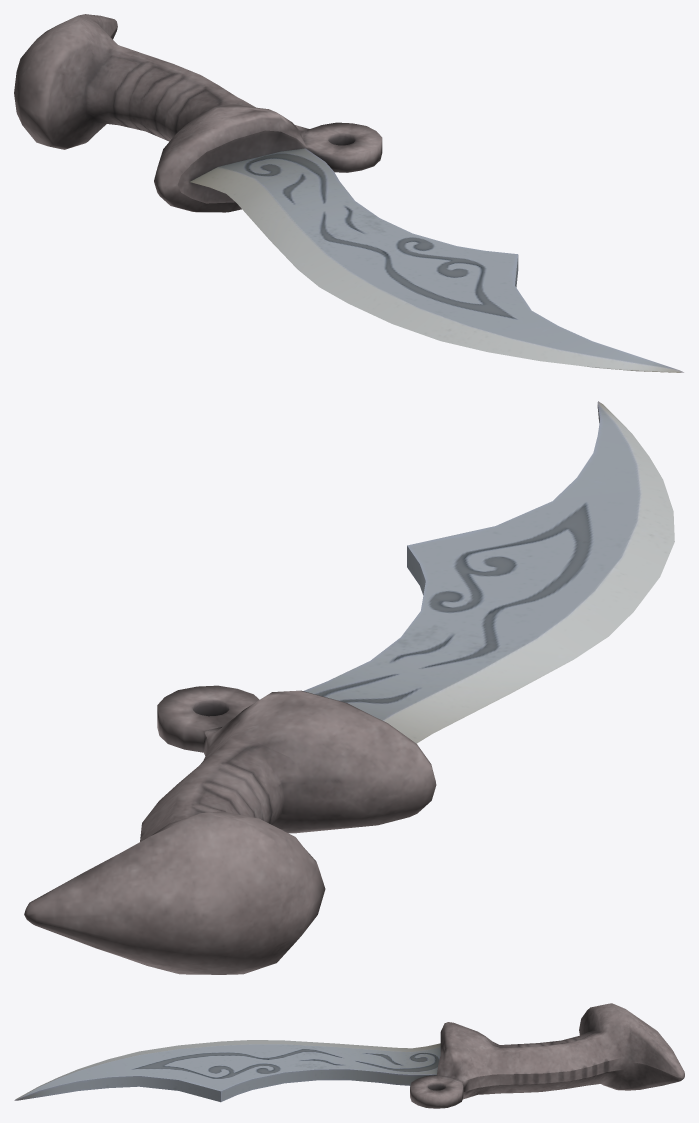
Rendered from sb_obj_weapon002_AssassinKnife.fbx.
3 renders of one model, top to bottom at view 1: azimuth 30°, elevation 25°; view 2: azimuth 150°, elevation 25°; view 3: azimuth 270°, elevation 25°, orthographic. The views are drawn at different scales.
Visible parts, largest first — view 1: sb_obj_weapon002_AssassinKnife; view 2: sb_obj_weapon002_AssassinKnife; view 3: sb_obj_weapon002_AssassinKnife.
Boxes of the visible parts, x1,y1,x2,y2 form: sb_obj_weapon002_AssassinKnife: (14, 14, 683, 372); sb_obj_weapon002_AssassinKnife: (24, 401, 674, 974); sb_obj_weapon002_AssassinKnife: (14, 1003, 684, 1108).
Bounding box in the file's own units: 0.0866 × 0.0424 × 0.3241.
